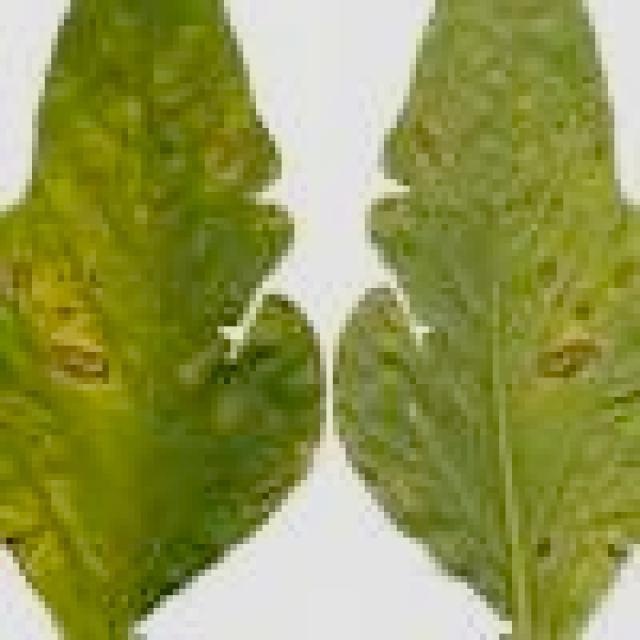Bercak Daun Serkospora: (0, 0, 320, 640), (326, 0, 640, 640)
